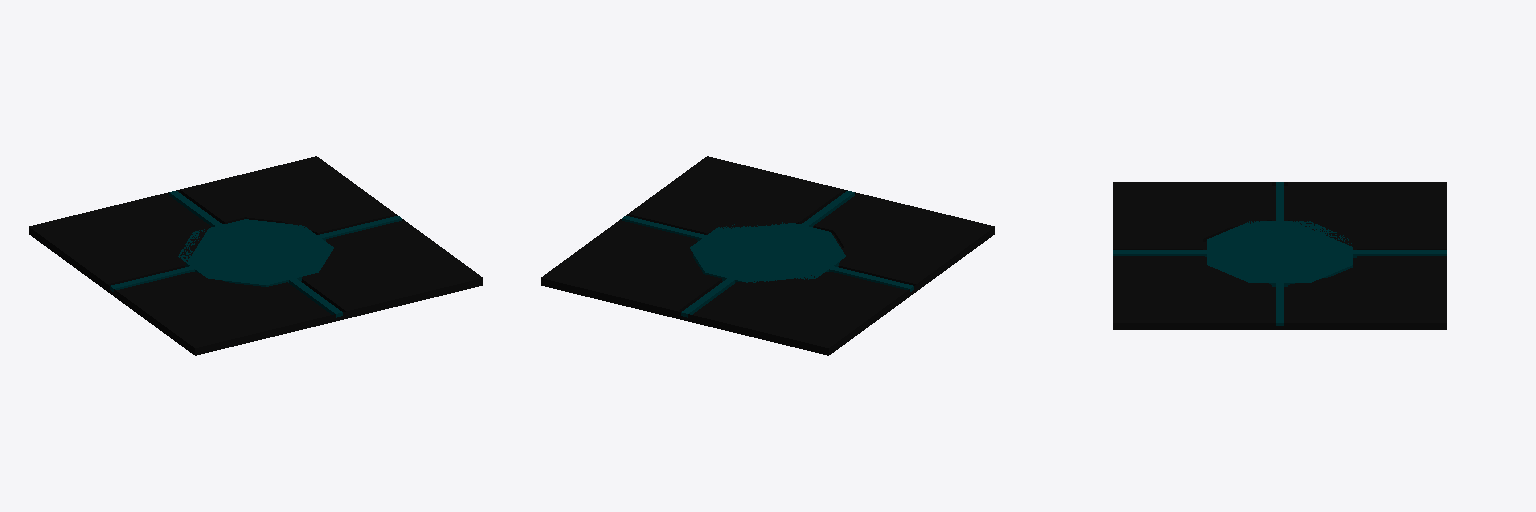
The model's file is SciFiFloor.obj.
3 views of the same model, side by side, from view 1: azimuth 30°, elevation 25°; view 2: azimuth 150°, elevation 25°; view 3: azimuth 270°, elevation 25° (orthographic).
Parts seen in each view (by area): view 1: Cube, Floor_Oct; view 2: Cube, Floor_Oct; view 3: Cube, Floor_Oct, Arm_1, Arm_4.
Boxes of the visible parts, <box> form: Cube: <box>29,156,482,355</box>; Floor_Oct: <box>178,219,333,286</box>; Cube: <box>541,156,994,355</box>; Floor_Oct: <box>690,222,845,282</box>; Cube: <box>1113,182,1446,329</box>; Floor_Oct: <box>1207,221,1352,286</box>; Arm_1: <box>1353,250,1446,257</box>; Arm_4: <box>1113,250,1206,256</box>.
Size of the model in its own units: 4 by 0.1 by 4.